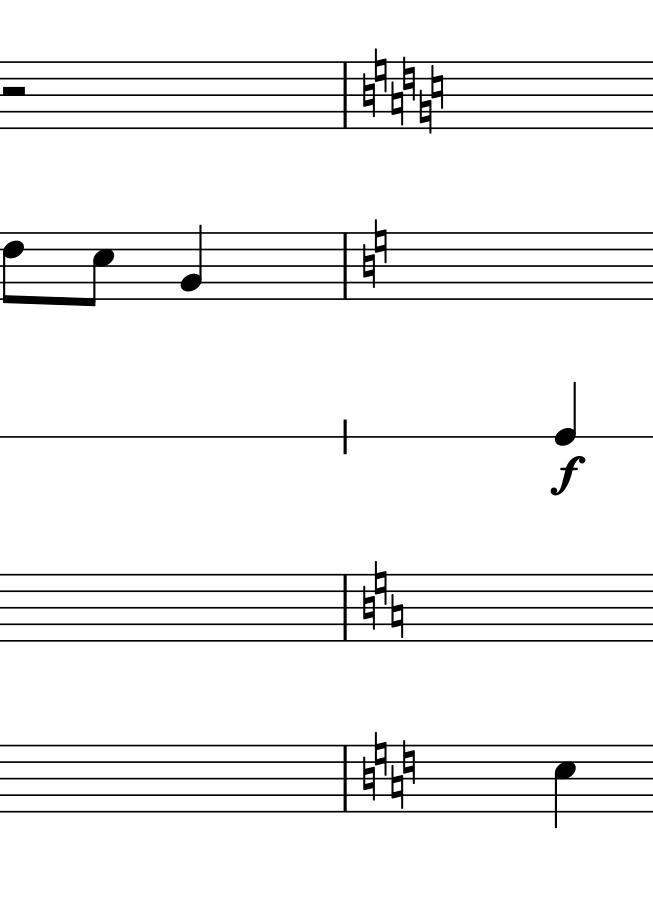4_2: (179, 224, 204, 300)
4_5: (553, 743, 576, 832)
8_5: (82, 231, 115, 309)
8_6: (3, 231, 25, 305)
Natural: (360, 244, 377, 287), (372, 221, 389, 264)
Rests2: (1, 83, 29, 99)
Single_barline: (337, 574, 353, 642), (337, 62, 353, 128), (337, 234, 353, 298), (338, 745, 352, 810)
f: (549, 456, 584, 494)
